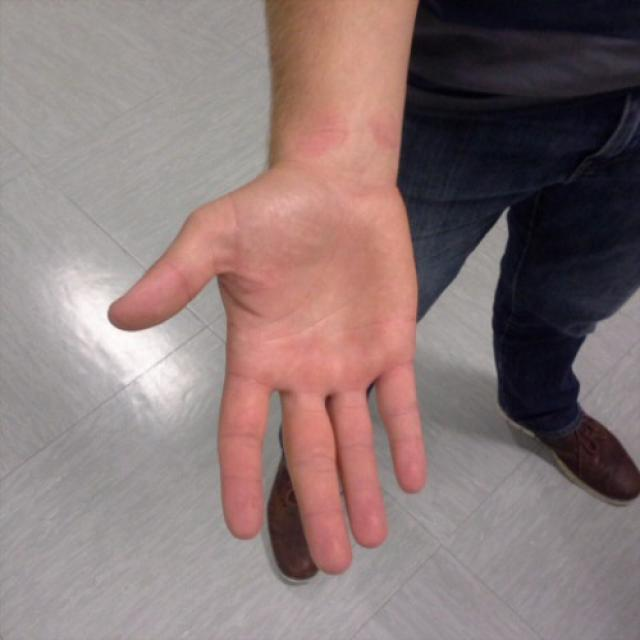paper: (107, 186, 430, 576)
